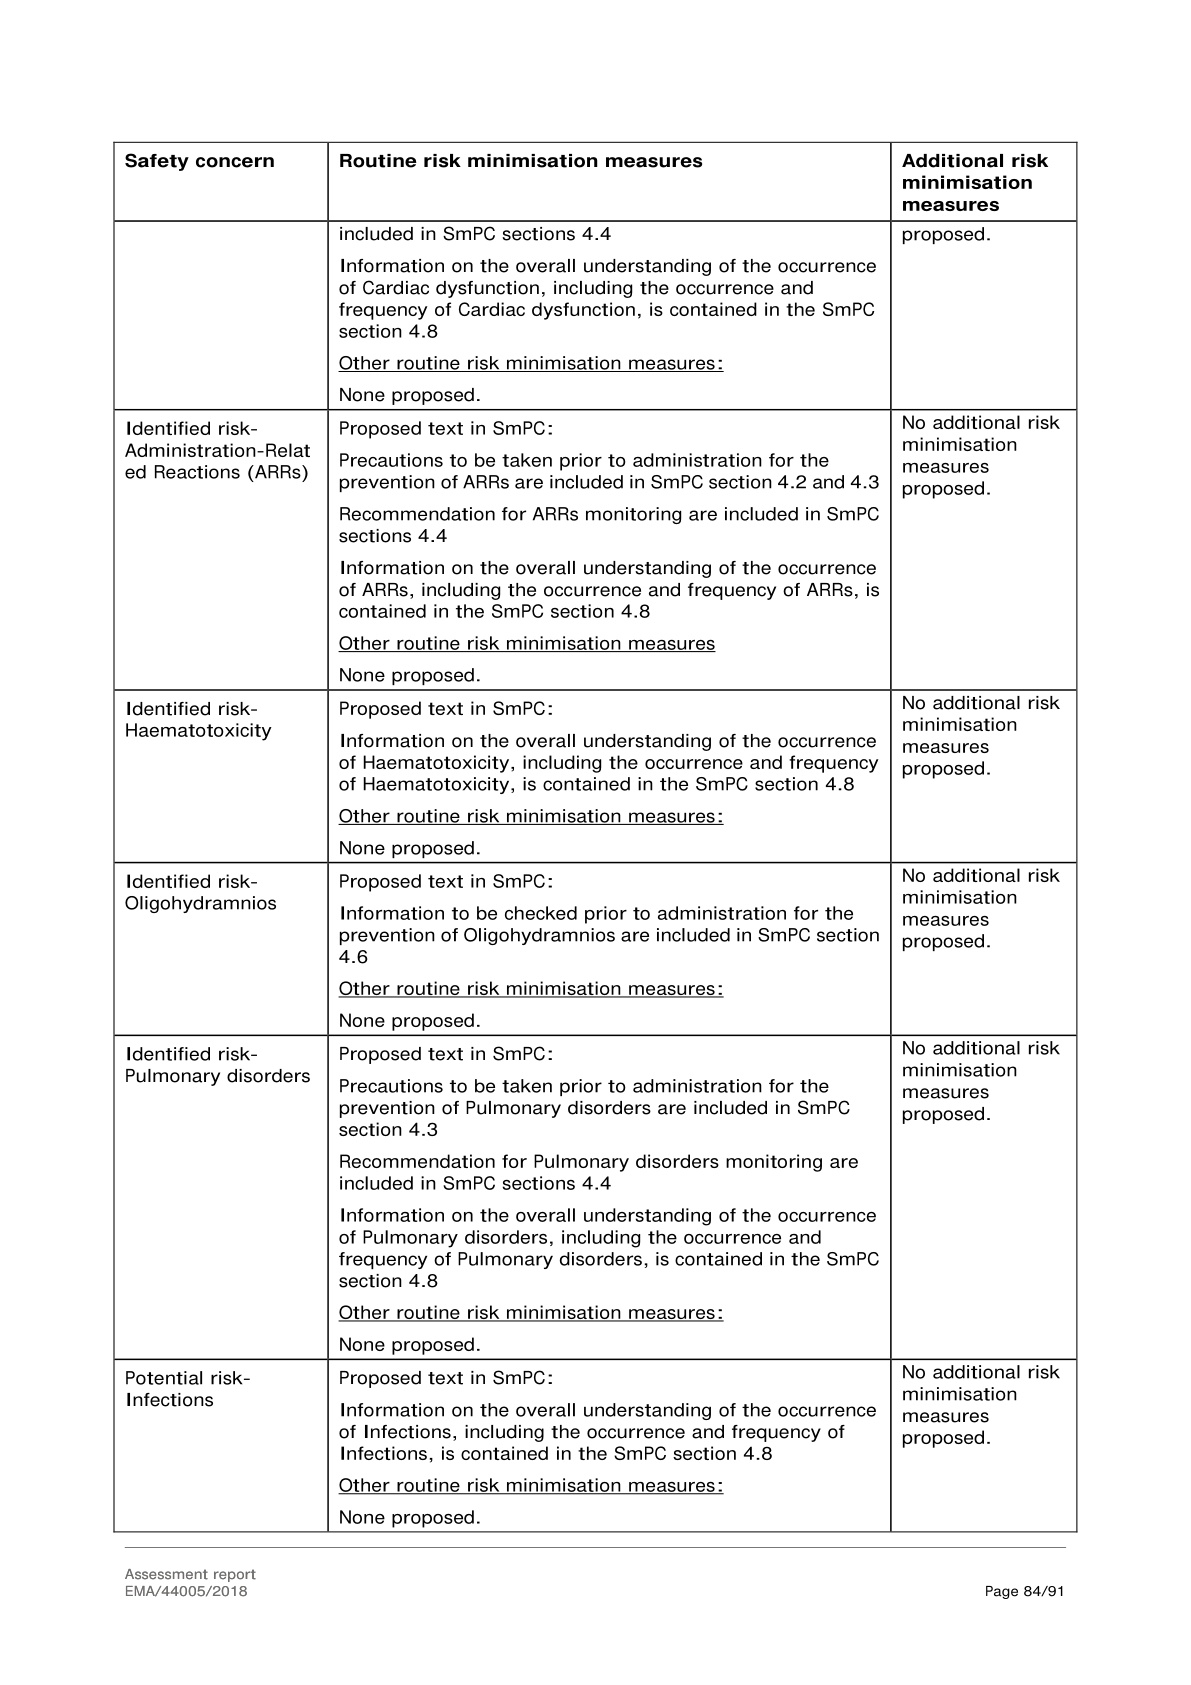full_lined: (112, 141, 1079, 1534)
